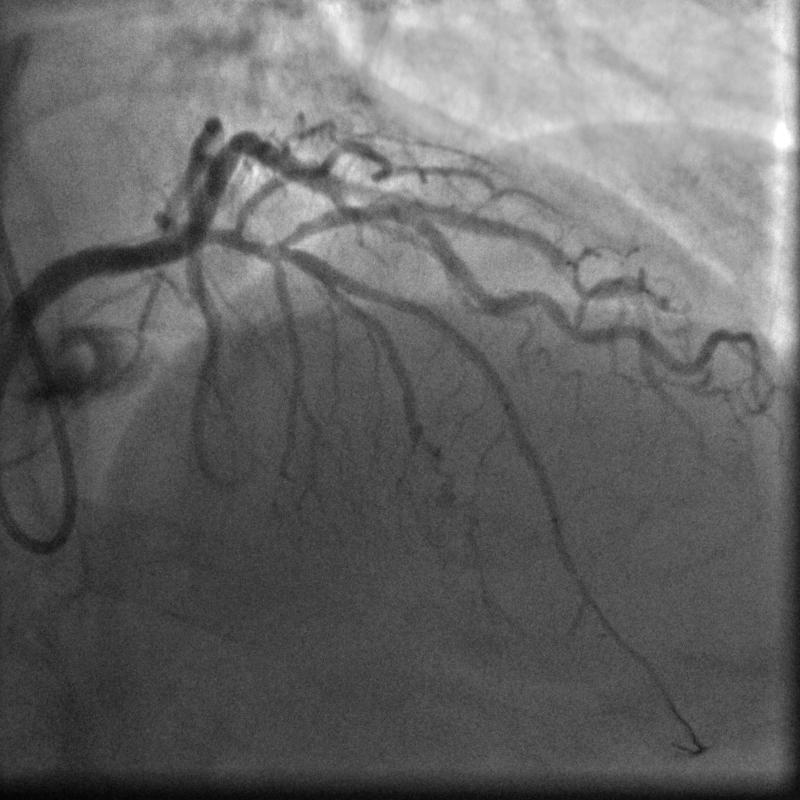Stenosis: (380, 195, 428, 232)
